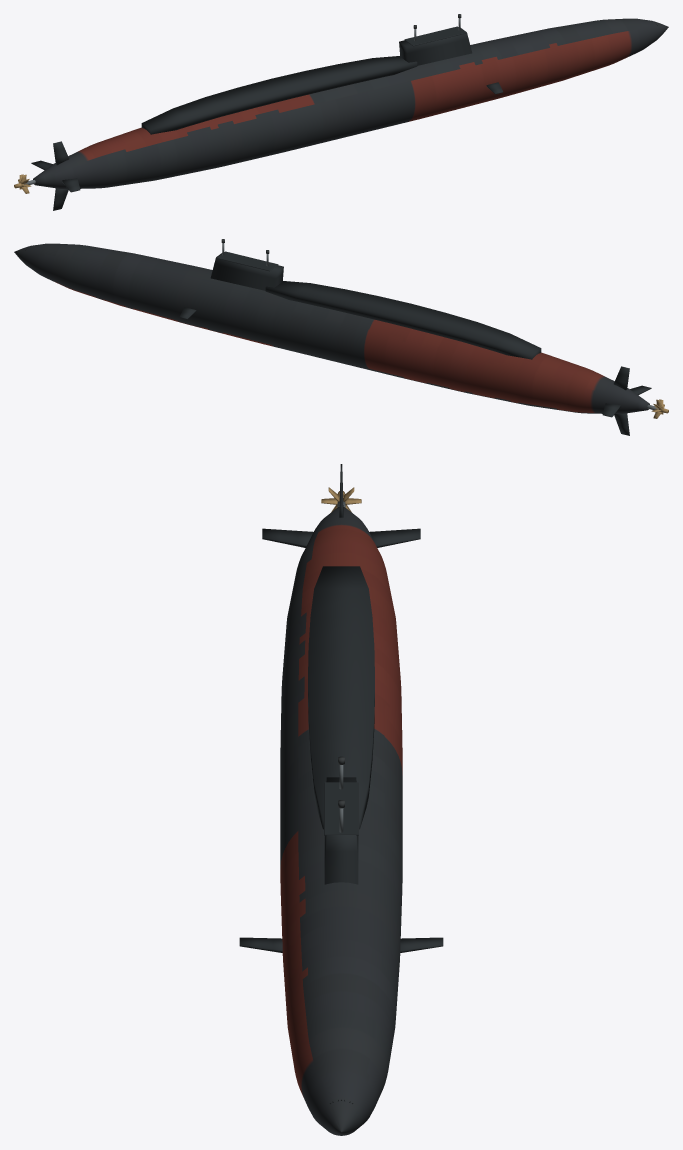
Rendered from CN_SSBN_Type092.glb.
3 views of the same model, one above another, from view 1: azimuth 30°, elevation 25°; view 2: azimuth 150°, elevation 25°; view 3: azimuth 270°, elevation 25° (orthographic). The views are drawn at different scales.
Visible parts, largest first — view 1: CN_SSBN_Type092_LOD0; view 2: CN_SSBN_Type092_LOD0; view 3: CN_SSBN_Type092_LOD0.
Boxes of the visible parts, x1=… form: CN_SSBN_Type092_LOD0: x1=14, y1=14, x2=668, y2=210; CN_SSBN_Type092_LOD0: x1=14, y1=239, x2=668, y2=435; CN_SSBN_Type092_LOD0: x1=239, y1=464, x2=443, y2=1135.
Size of the model in its own units: 124 by 17.53 by 16.71.
6 materials, 1 textured.
